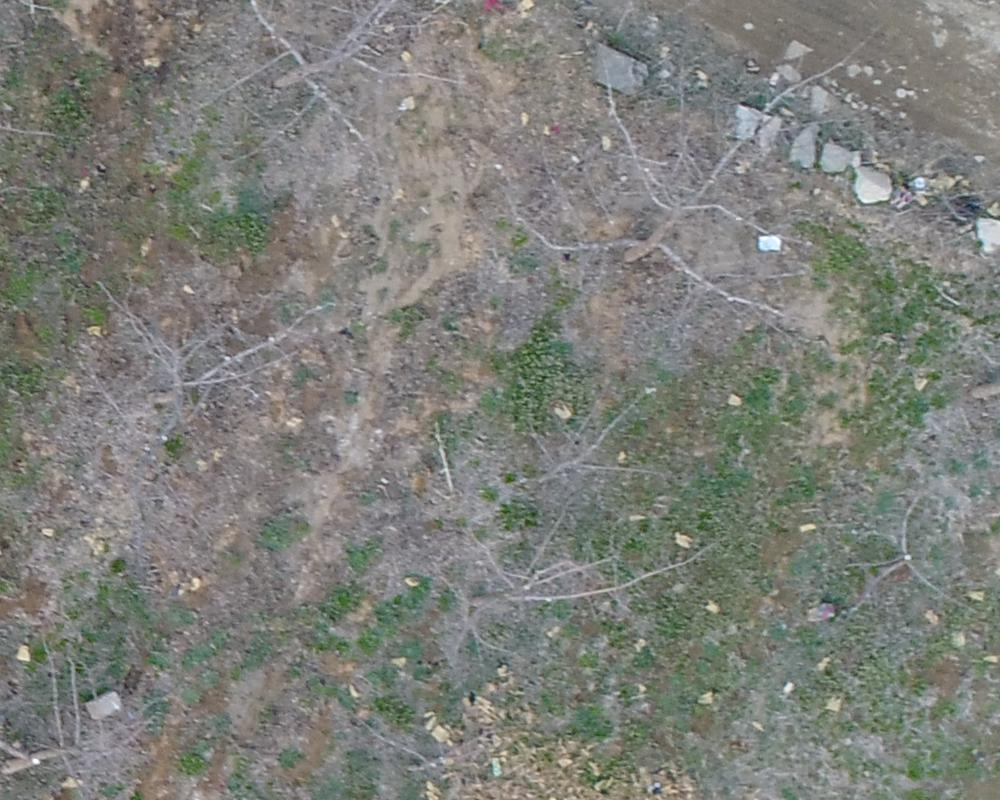apple: (522, 24, 867, 325), (405, 436, 705, 697), (64, 263, 352, 465), (182, 10, 473, 162), (10, 624, 185, 790), (825, 486, 990, 648)
